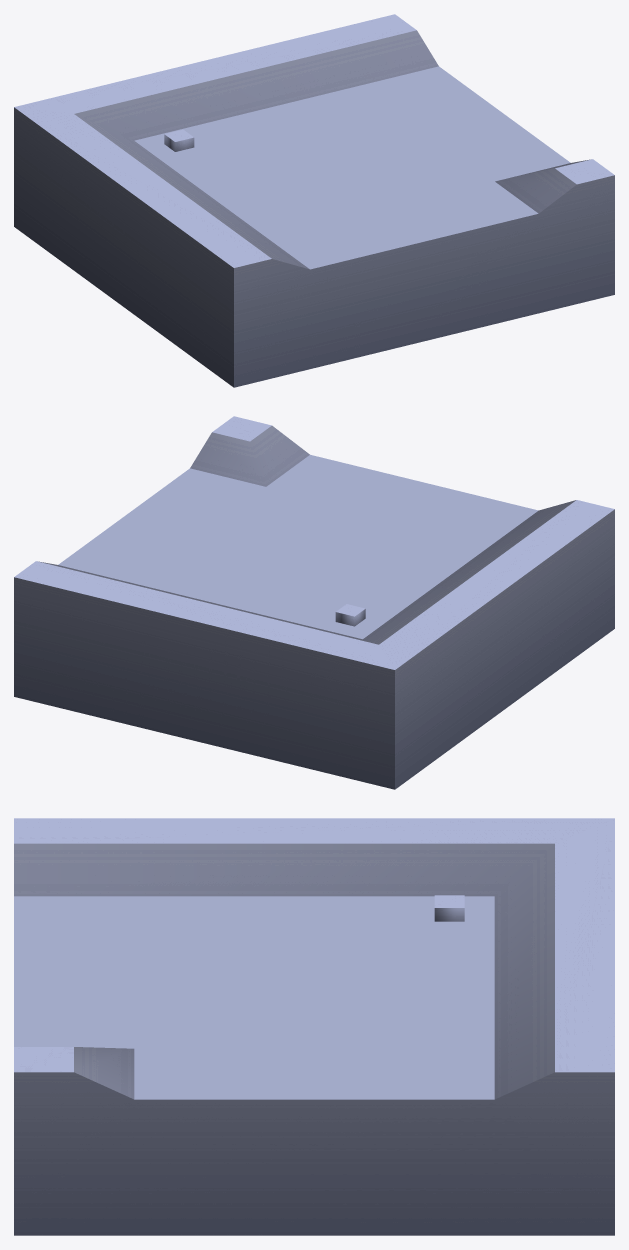
File: floor-panel-corner.glb
The picture shows the model from 3 angles, top to bottom: view 1: azimuth 30°, elevation 25°; view 2: azimuth 150°, elevation 25°; view 3: azimuth 270°, elevation 25°; orthographic projection. The views are drawn at different scales.
Visible parts, largest first — view 1: floor-panel-corner; view 2: floor-panel-corner; view 3: floor-panel-corner.
Boxes of the visible parts, x1=… form: floor-panel-corner: x1=14, y1=14, x2=614, y2=387; floor-panel-corner: x1=14, y1=416, x2=614, y2=789; floor-panel-corner: x1=14, y1=818, x2=614, y2=1235.
Size of the model in its own units: 1 by 0.3 by 1.
Materials: 1 (1 with a texture image).
